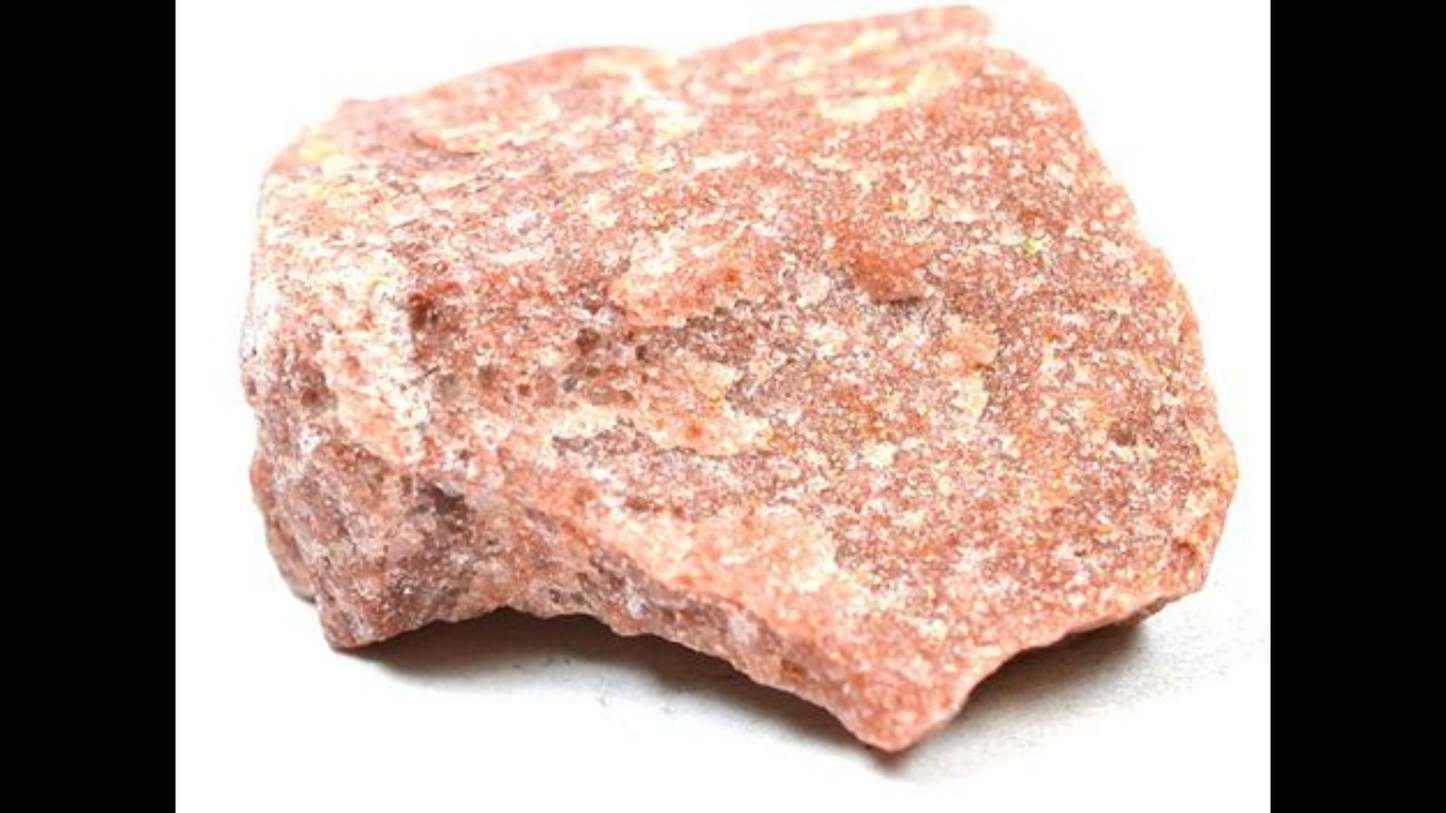rock: (242, 9, 1234, 748)
